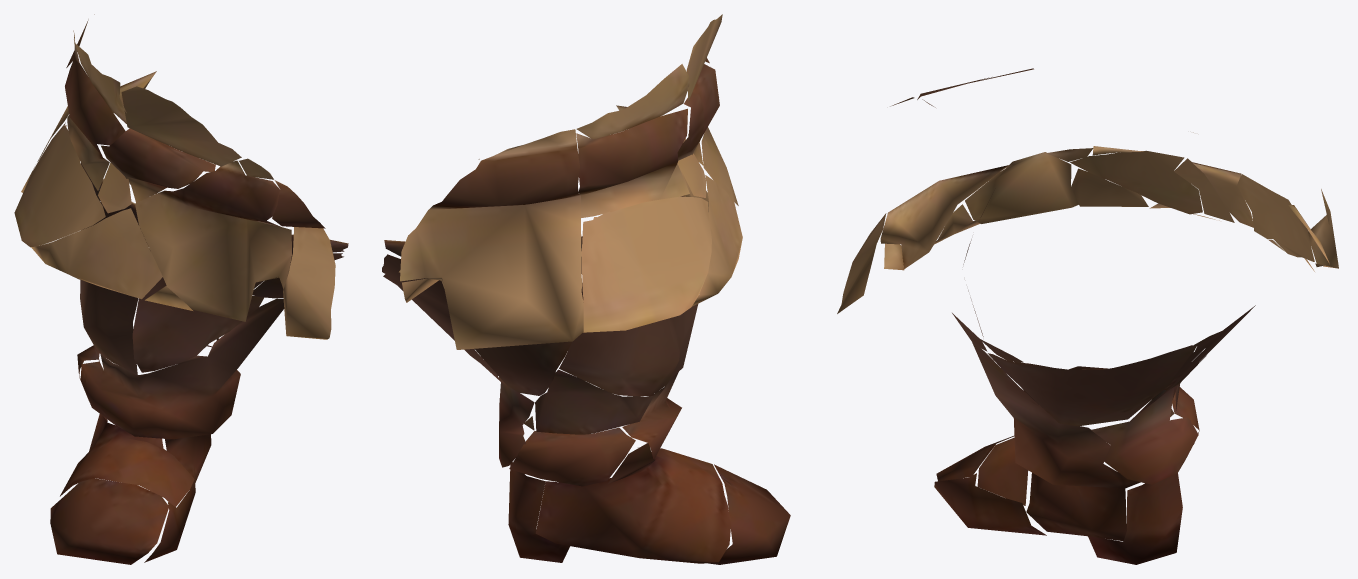
The model's file is villager-legR.glb.
3 renders of one model, left to right at view 1: azimuth 30°, elevation 25°; view 2: azimuth 150°, elevation 25°; view 3: azimuth 270°, elevation 25°, orthographic. The views are drawn at different scales.
Parts seen in each view (by area): view 1: villager_legR; view 2: villager_legR; view 3: villager_legR.
Part boxes in pixels (x1,y1,x2,y2): villager_legR: [14, 14, 348, 564]; villager_legR: [382, 14, 790, 564]; villager_legR: [837, 68, 1338, 564].
Size of the model in its own units: 0.2477 by 0.3747 by 0.3512.
1 material, 1 textured.
